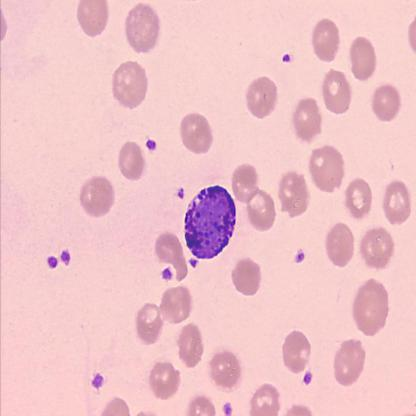Basophil: (182, 181, 240, 265)
